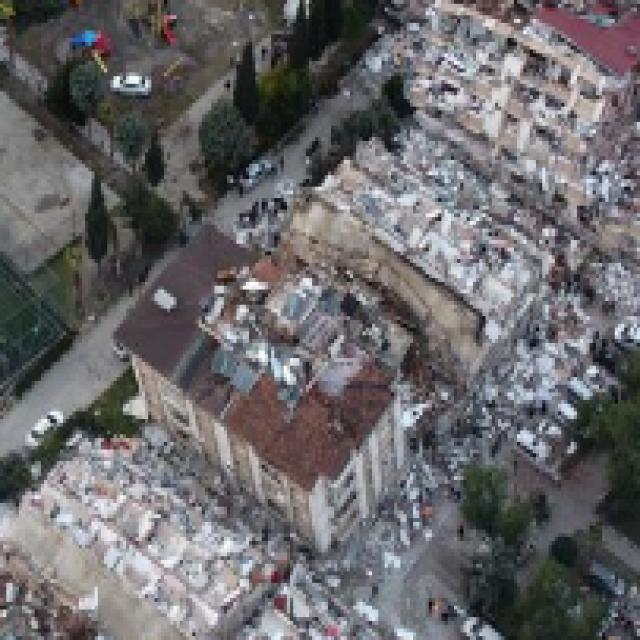Rubble: (418, 11, 637, 150), (505, 162, 638, 370), (331, 158, 496, 314), (58, 442, 176, 632), (402, 335, 549, 456), (180, 514, 284, 636), (286, 550, 424, 638)
